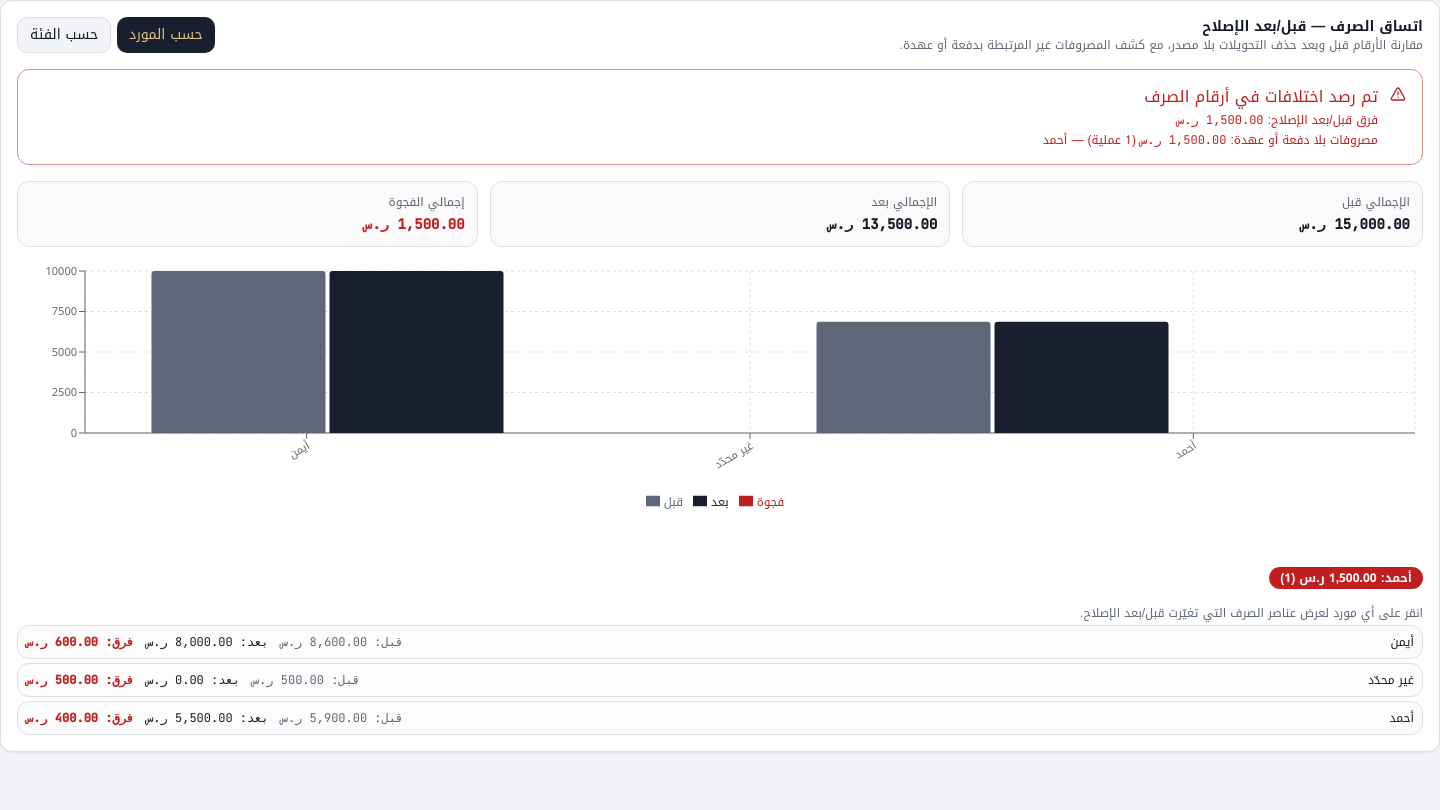
Test: with repairs and an unlinked expense › regroups by category
The width and height of the screenshot is (1440, 810).
Expected: the text "1,500.00 ر.س" below "إجمالي الفجوة" is shown, top-left (364, 215), bottom-right (465, 233)
Click the button "حسب الفئة".
click(64, 35)  # box top-left (17, 17), bottom-right (111, 53)
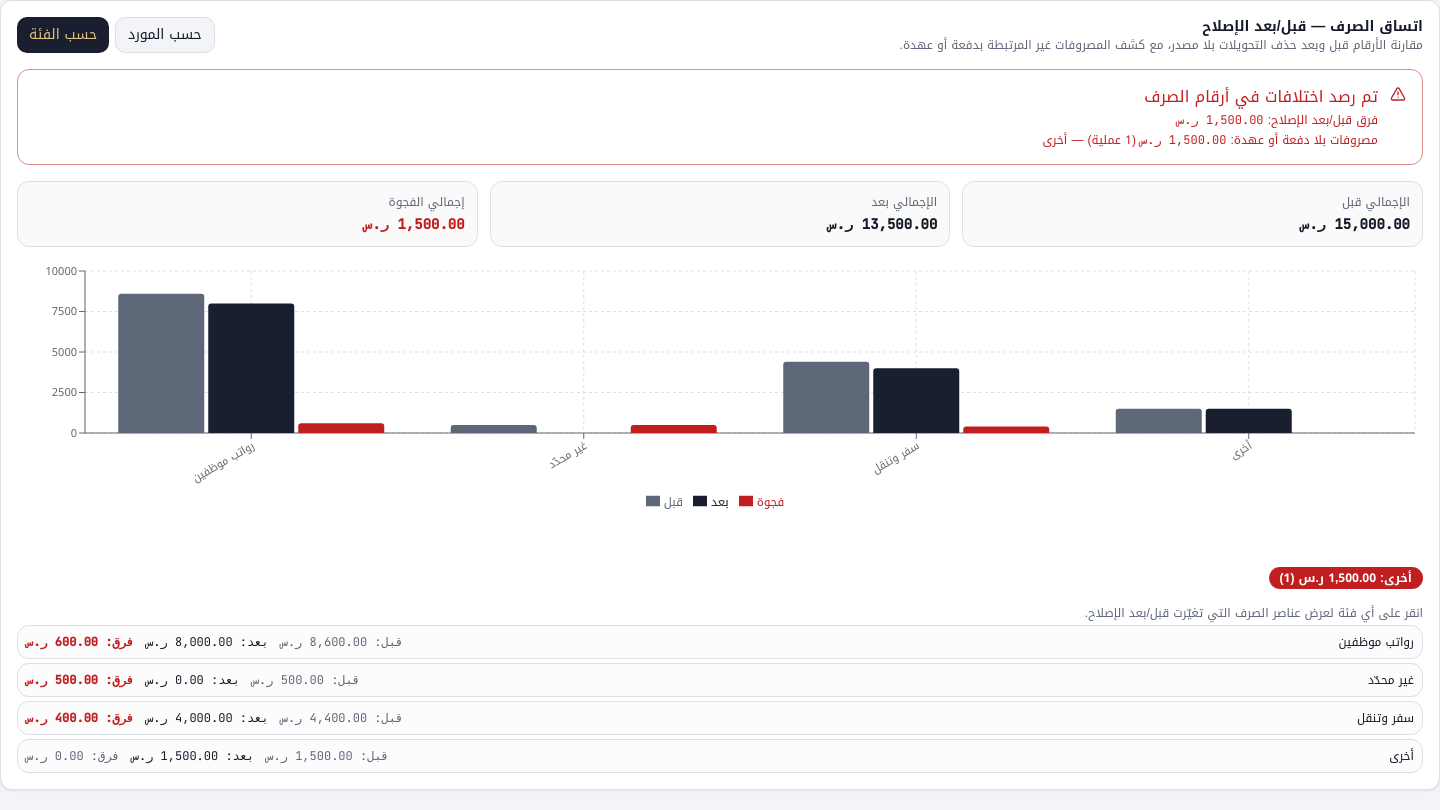
Expected: the button "رواتب موظفين" shows "قبل: 8,600.00 ر.س", top-left (17, 625), bottom-right (1423, 659)
Expected: the button "سفر وتنقل" shows "فرق: 400.00 ر.س", top-left (17, 701), bottom-right (1423, 735)
Expected: the text "انقر على أي فئة" is shown, top-left (1085, 602), bottom-right (1423, 624)
